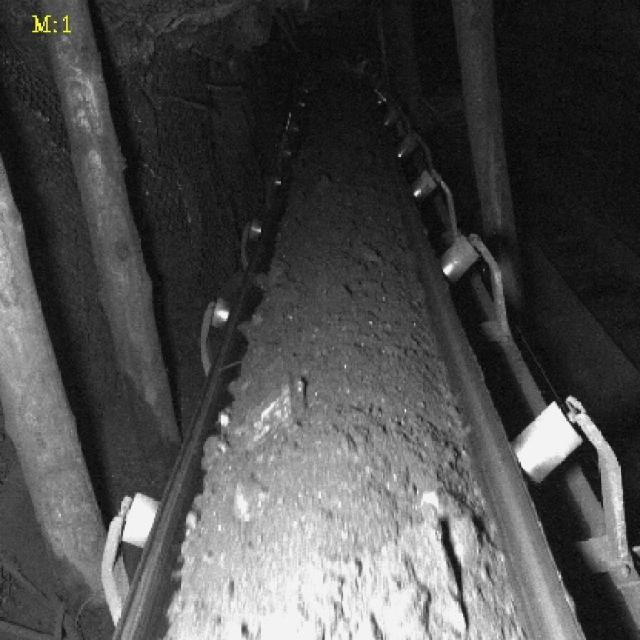large_sized_coal: (402, 489, 480, 634), (224, 375, 310, 451), (383, 588, 428, 637), (232, 478, 270, 522)
